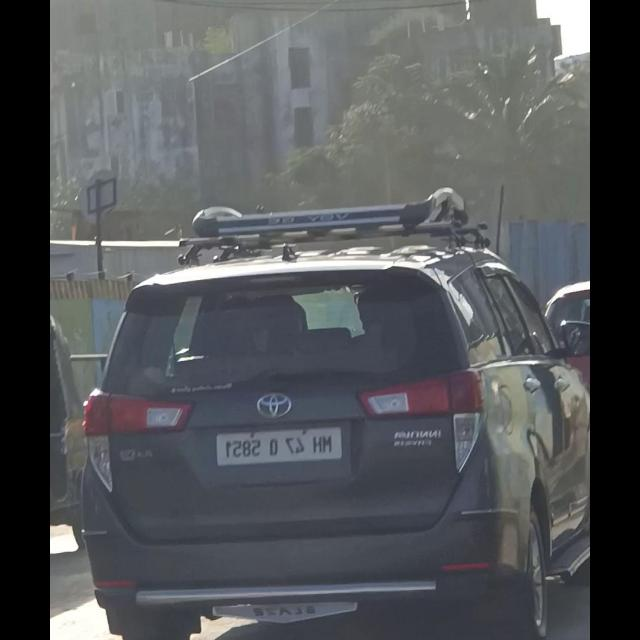number-plate: (214, 423, 343, 470)
vehicles: (84, 232, 591, 640)
